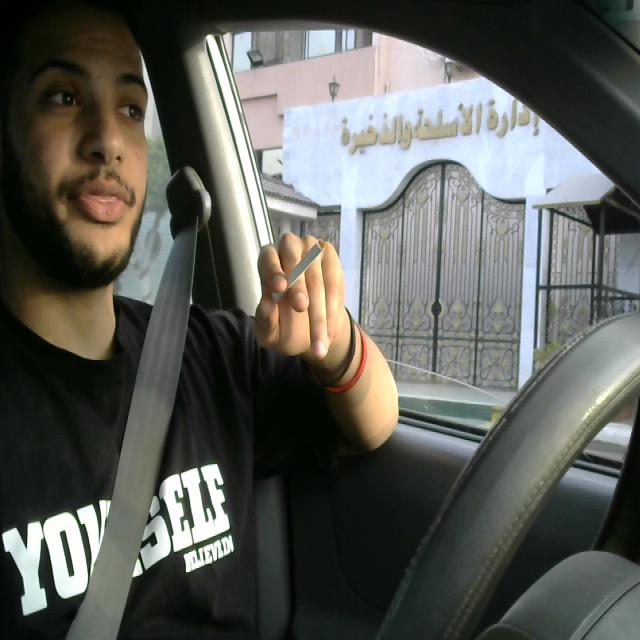smoking: (250, 239, 331, 302)
